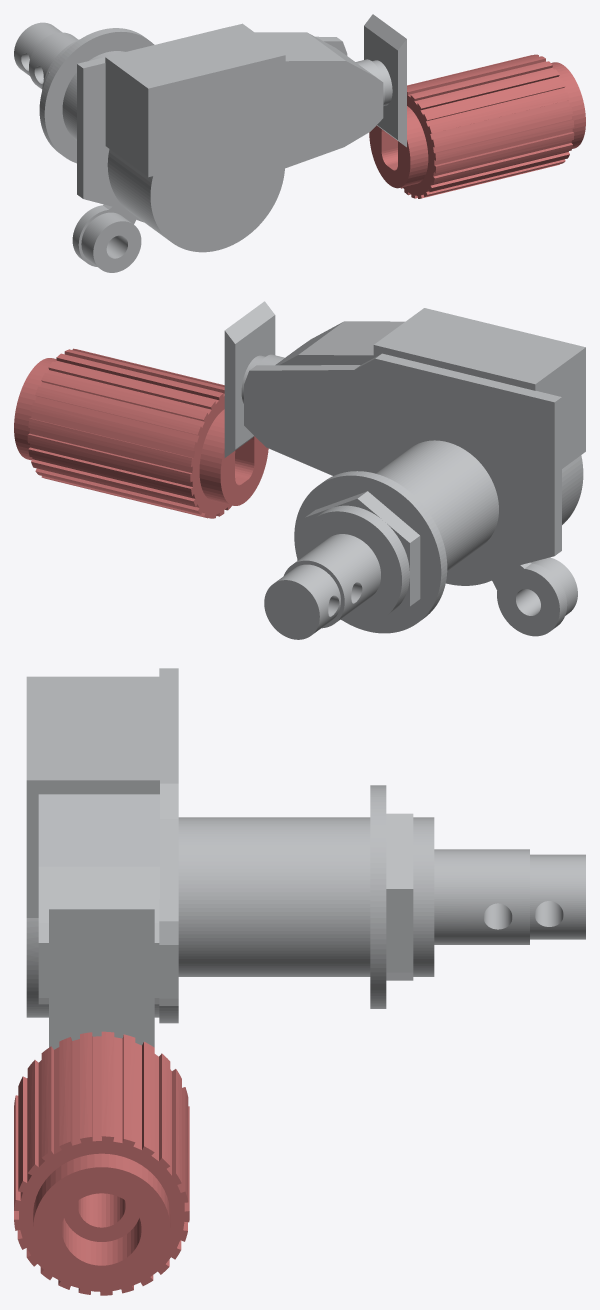
File: WEIRDO_SG381_RIGHT_motylek_osobny.glb
3 renders of one model, top to bottom at view 1: azimuth 30°, elevation 25°; view 2: azimuth 150°, elevation 25°; view 3: azimuth 270°, elevation 25°, orthographic. The views are drawn at different scales.
Parts seen in each view (by area): view 1: SG381_RIGHT_METAL, WEIRDO_MOTYLEK_BINDING_COLOR; view 2: SG381_RIGHT_METAL, WEIRDO_MOTYLEK_BINDING_COLOR; view 3: SG381_RIGHT_METAL, WEIRDO_MOTYLEK_BINDING_COLOR.
Boxes of the visible parts, <box> form: SG381_RIGHT_METAL: <box>14,14,406,272</box>; WEIRDO_MOTYLEK_BINDING_COLOR: <box>369,54,585,198</box>; SG381_RIGHT_METAL: <box>224,301,585,639</box>; WEIRDO_MOTYLEK_BINDING_COLOR: <box>14,348,268,518</box>; SG381_RIGHT_METAL: <box>26,668,585,1049</box>; WEIRDO_MOTYLEK_BINDING_COLOR: <box>14,1031,189,1295</box>.
Size of the model in its own units: 52.3 by 22.4 by 35.8.
